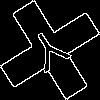Y: (25, 25, 78, 82)
